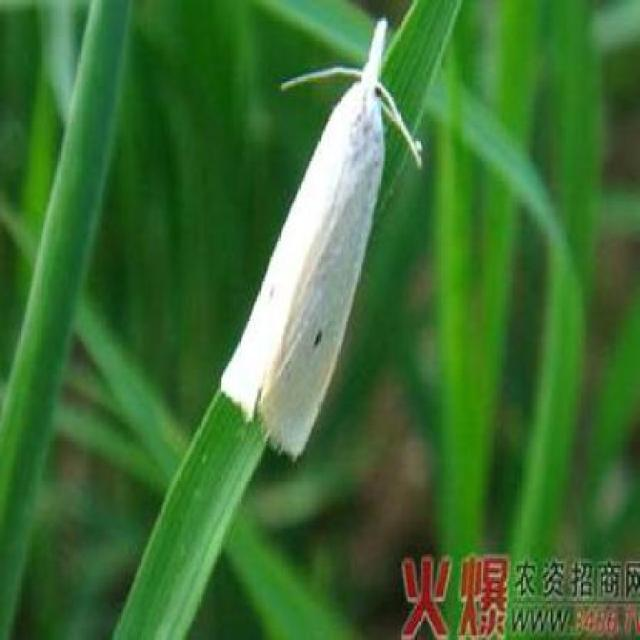stem-borer: (219, 14, 426, 466)
